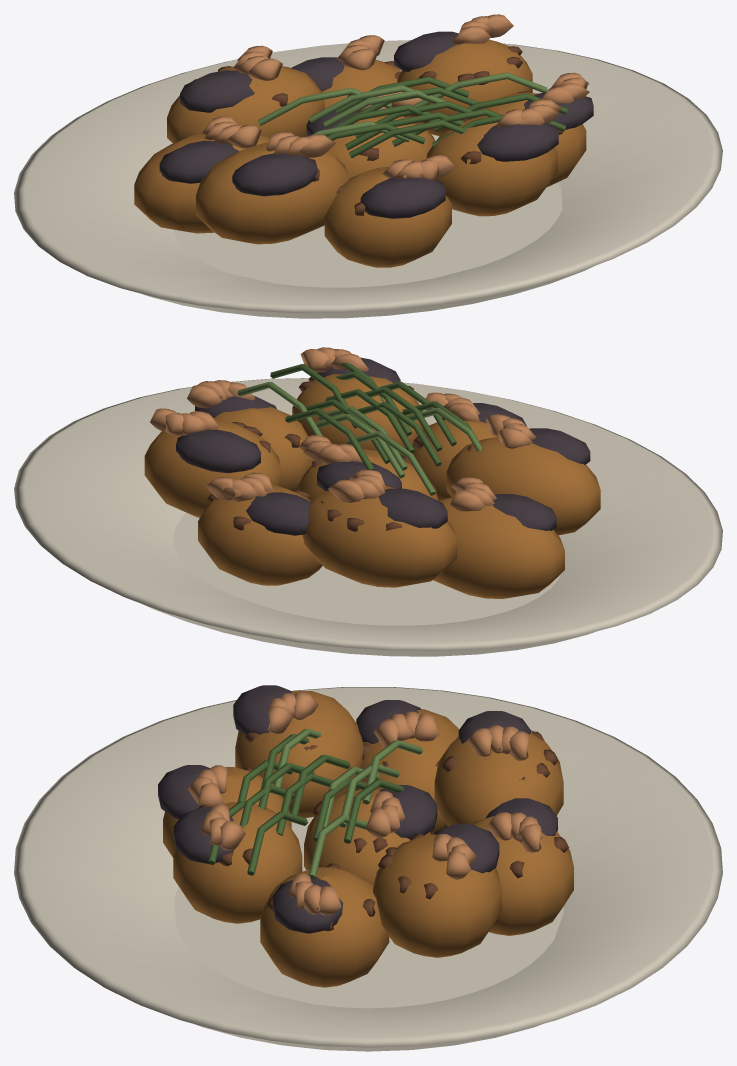
File: eggplant.glb
3 renders of one model, top to bottom at view 1: azimuth 30°, elevation 25°; view 2: azimuth 150°, elevation 25°; view 3: azimuth 270°, elevation 25°, orthographic. The views are drawn at different scales.
Parts seen in each view (by area): view 1: FP218_eggplant; view 2: FP218_eggplant; view 3: FP218_eggplant.
Boxes of the visible parts, left/top/right/bottom form: FP218_eggplant: left=14, top=14, right=722, bottom=318; FP218_eggplant: left=14, top=347, right=722, bottom=656; FP218_eggplant: left=14, top=685, right=722, bottom=1051.
Size of the model in its own units: 0.3336 by 0.078 by 0.2771.
